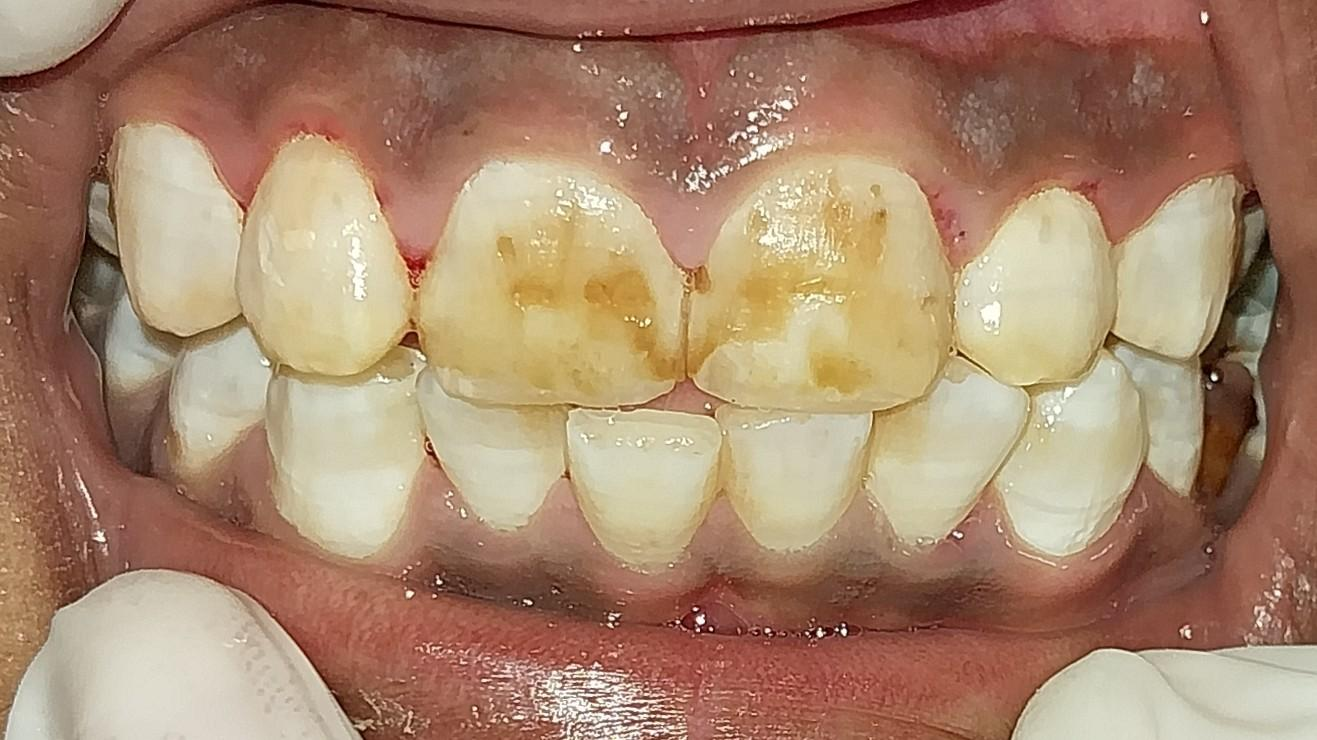d: (1191, 351, 1267, 533)
